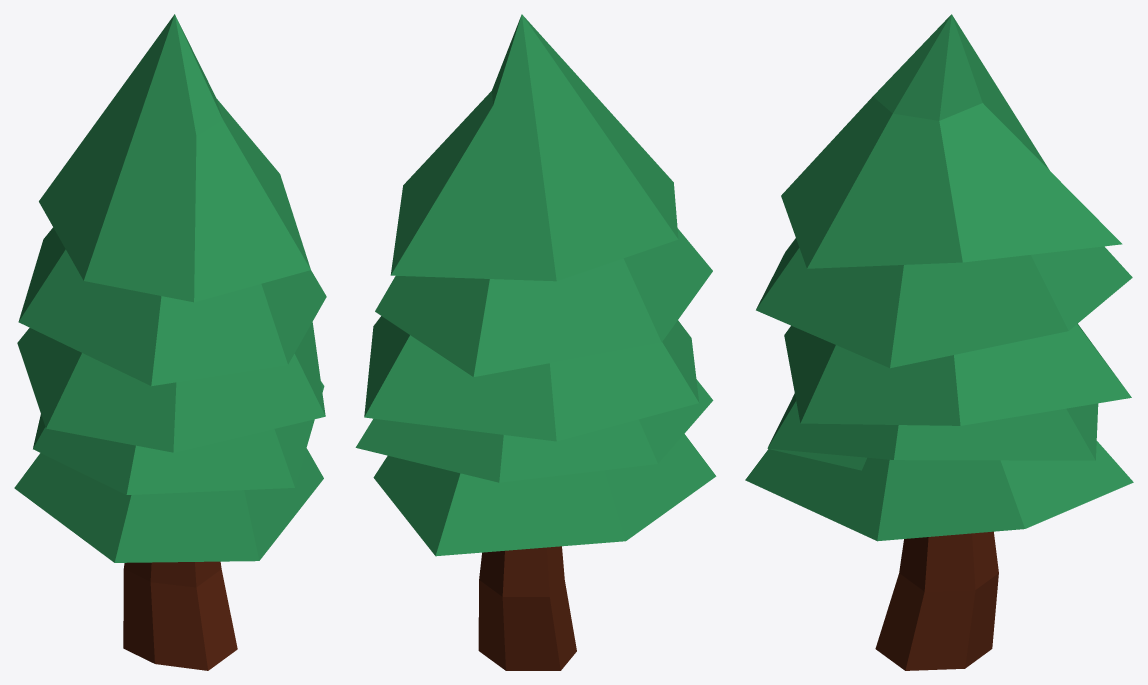
Rendered from çamagaci.fbx.
3 renders of one model, left to right at view 1: azimuth 30°, elevation 25°; view 2: azimuth 150°, elevation 25°; view 3: azimuth 270°, elevation 25°, orthographic.
Visible parts, largest first — view 1: Circle, Circle.001; view 2: Circle, Circle.001; view 3: Circle, Circle.001.
Part boxes in pixels (x1=…): Circle: x1=14, y1=14, x2=326, y2=562; Circle.001: x1=123, y1=561, x2=237, y2=670; Circle: x1=355, y1=14, x2=716, y2=556; Circle.001: x1=478, y1=546, x2=576, y2=670; Circle: x1=745, y1=14, x2=1133, y2=541; Circle.001: x1=875, y1=531, x2=998, y2=670.
Bounding box in the file's own units: 278 × 572 × 316.
